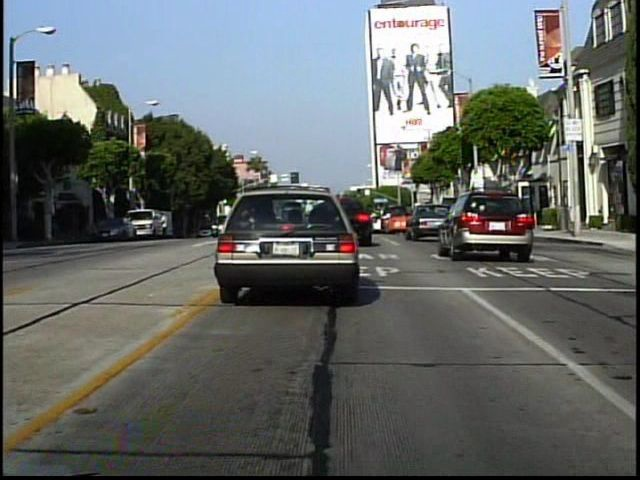person: (158, 208, 171, 243)
